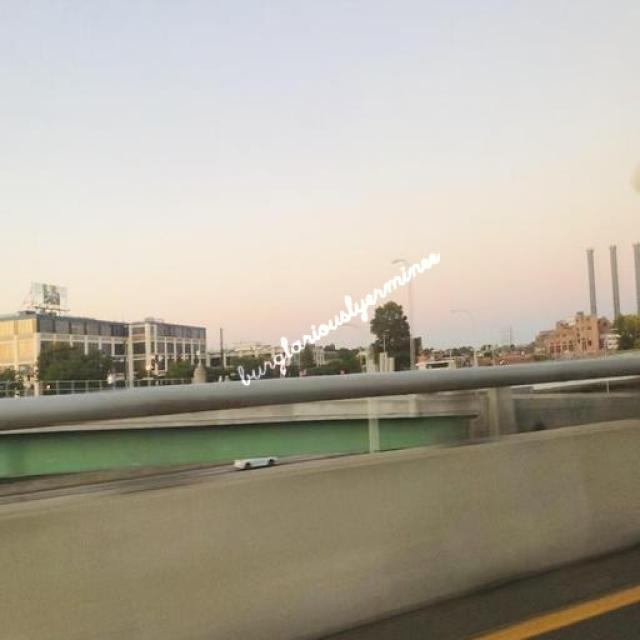watermark: (238, 236, 440, 390)
